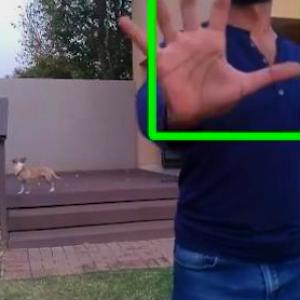follow_hand: (113, 0, 299, 128)
